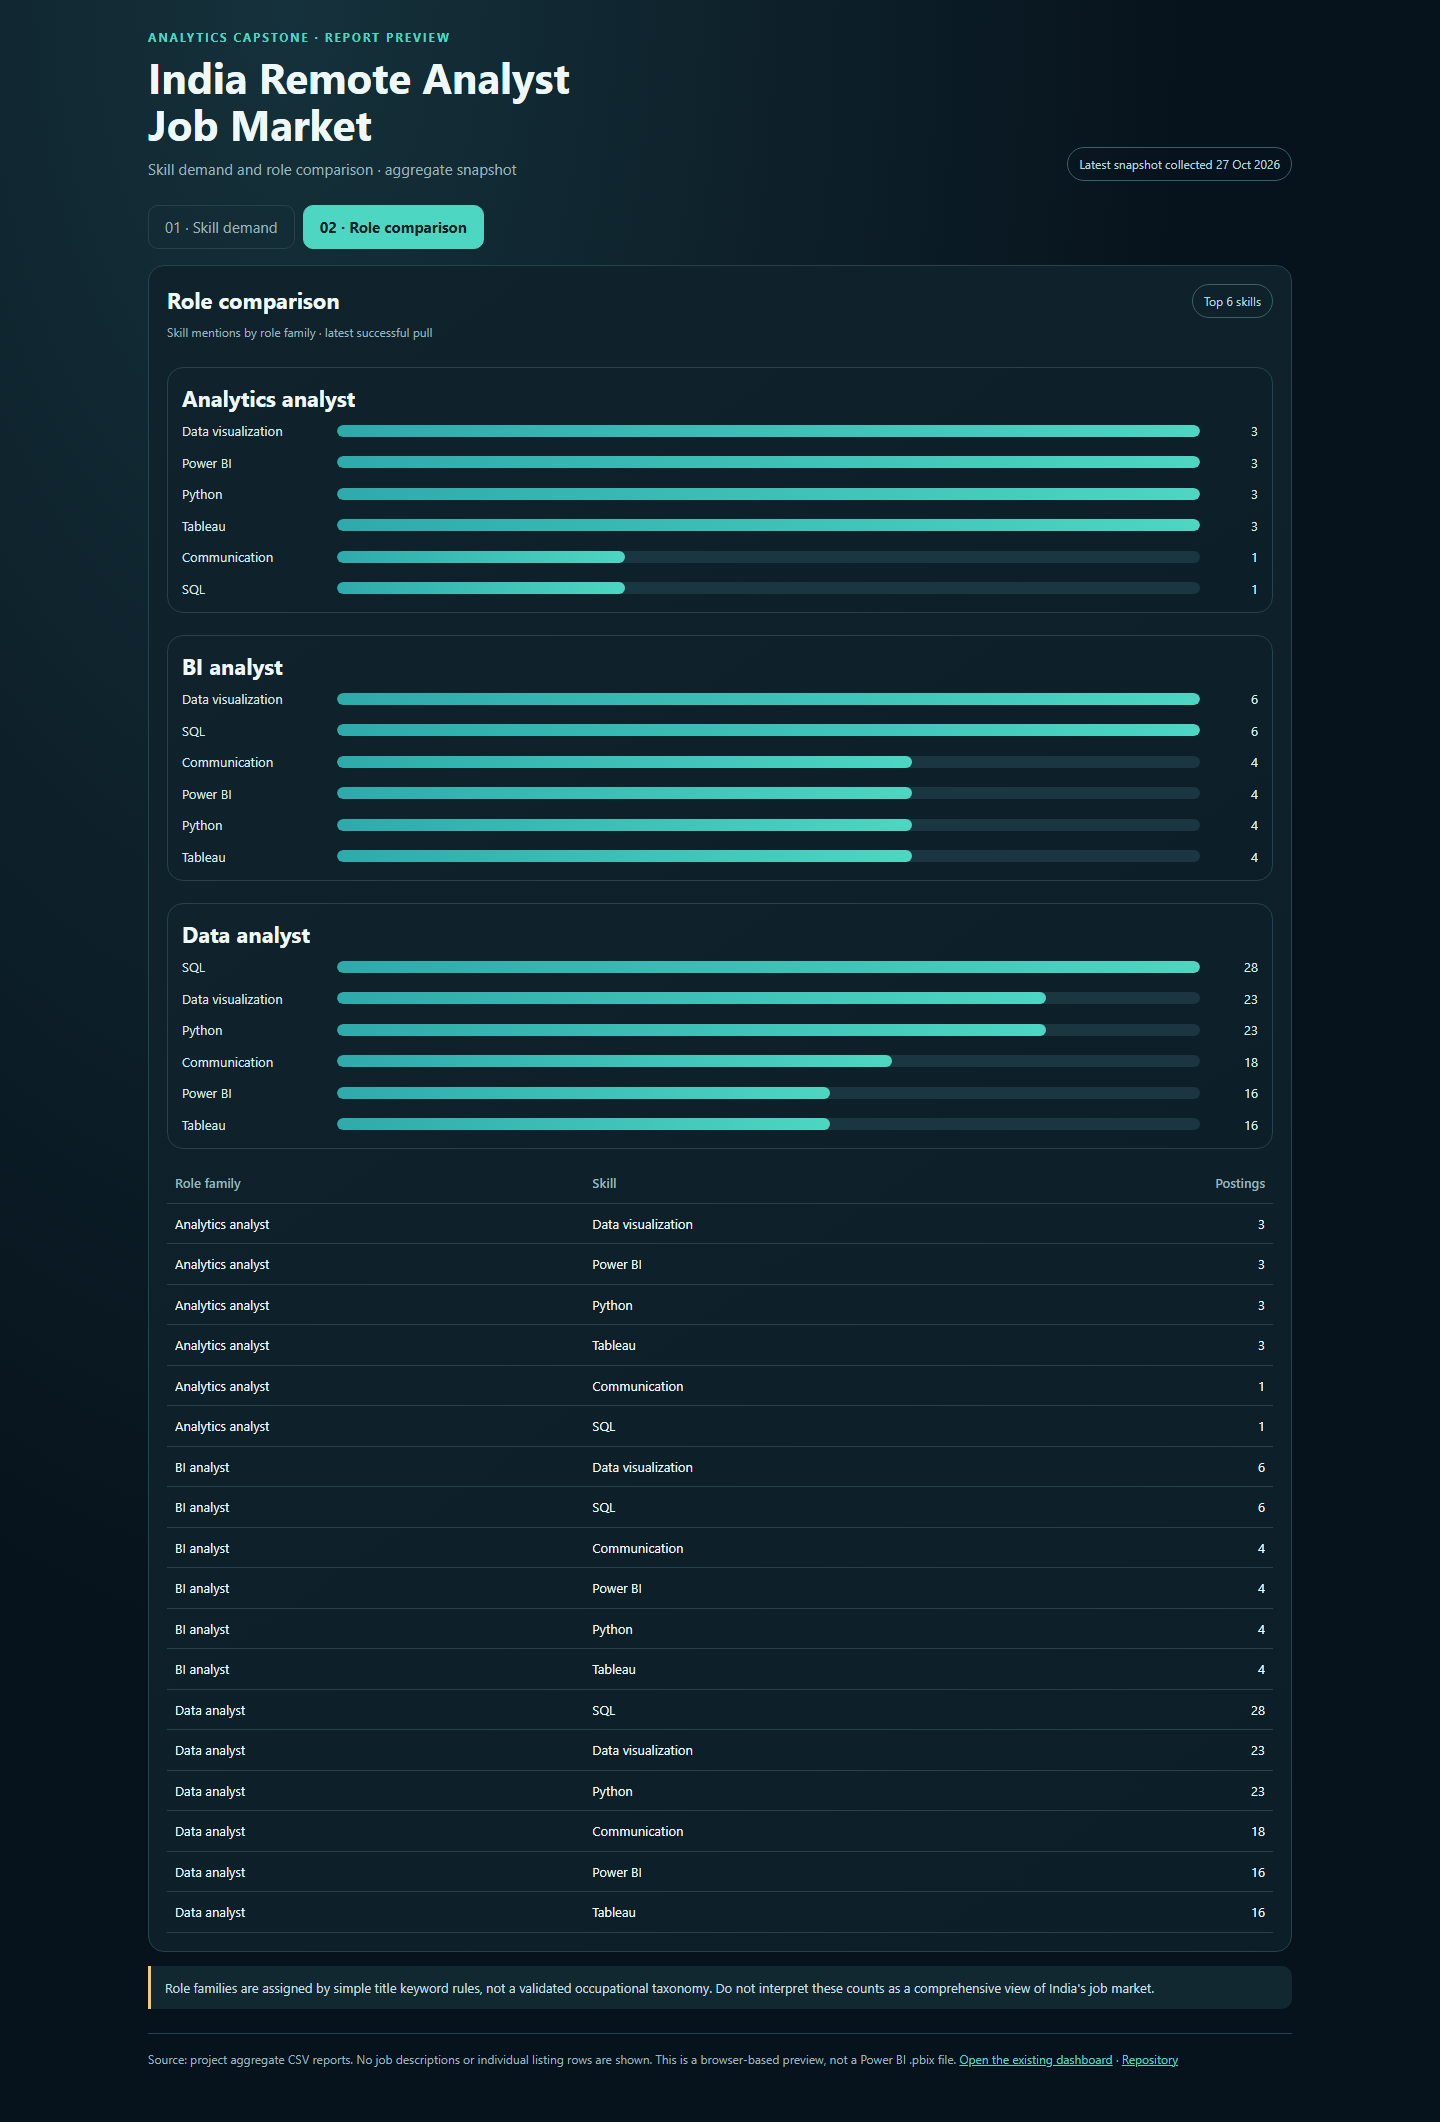

The page's visual inventory and layout, read from the dashboard file:
{"tool":"powerbi","page":{"name":"Role comparison","canvas":[1920,1080],"ordinal":1},"visuals":[{"type":"clusteredColumnChart","title":"Skills across role families (posting counts)","fields":{"Category":["RoleSkill.role_family"],"Series":["RoleSkill.skill"],"Y":["Sum(RoleSkill.postings)"]},"box":[10.1,0,1762.7,928.2],"z":0},{"type":"textbox","box":[10,930,1763,150],"z":1}]}

Visuals, with their boxes on the page's 1920x1080 design canvas (x1, y1, x2, y2). These are canvas units, not pixel positions in the 1440x2122 screenshot, which may show the page scaled, cropped or inside an application window:
"Skills across role families (posting counts)" clusteredColumnChart: (10,0,1773,928)
textbox: (10,930,1773,1080)
